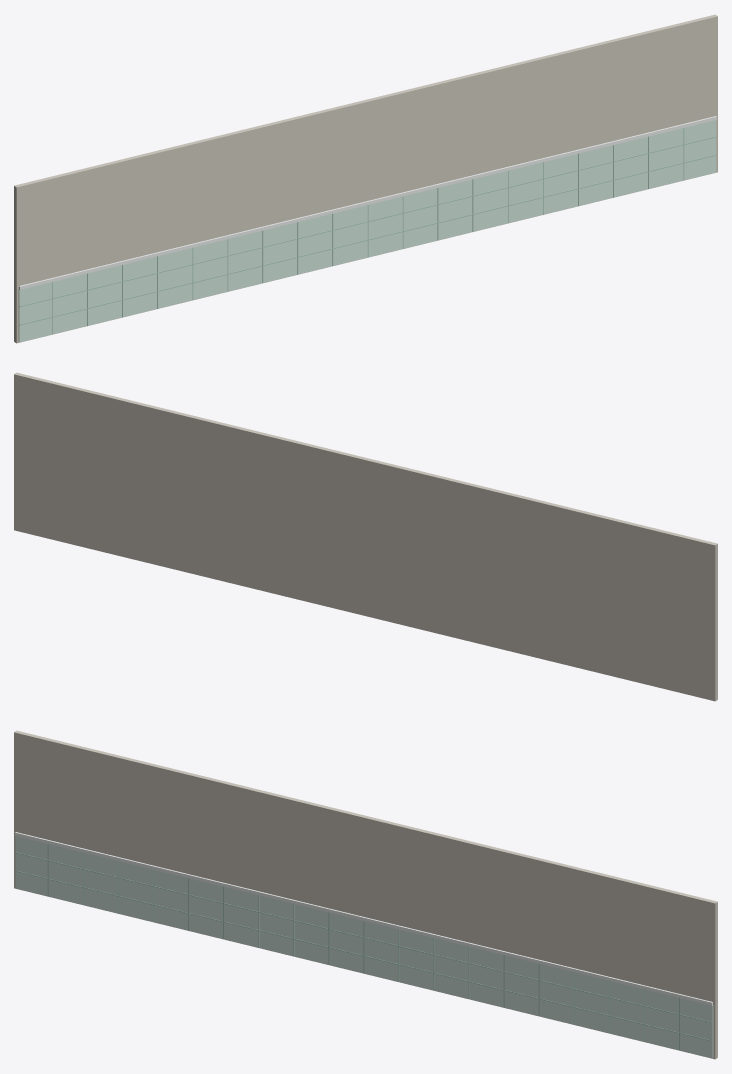
File: wall-front.glb
3 views of the same model, one above another, from view 1: azimuth 30°, elevation 25°; view 2: azimuth 150°, elevation 25°; view 3: azimuth 330°, elevation 25° (orthographic).
Visible parts, largest first — view 1: wall_shell, tile_skirt, molding, tile_joint_h_1, tile_joint_h_0; view 2: wall_shell; view 3: wall_shell, tile_skirt, molding, tile_joint_h_0, tile_joint_h_1.
Boxes of the visible parts, x1,y1,x2,y2 form: wall_shell: (14, 14, 717, 343); tile_skirt: (18, 120, 716, 342); molding: (19, 116, 716, 289); tile_joint_h_1: (19, 136, 716, 307); tile_joint_h_0: (19, 154, 716, 325); wall_shell: (14, 372, 717, 701); wall_shell: (14, 730, 717, 1059); tile_skirt: (15, 836, 713, 1058); molding: (15, 832, 712, 1005); tile_joint_h_0: (15, 870, 712, 1041); tile_joint_h_1: (15, 852, 712, 1023).
Bounding box in the file's own units: 16 × 3.4 × 0.1475.
